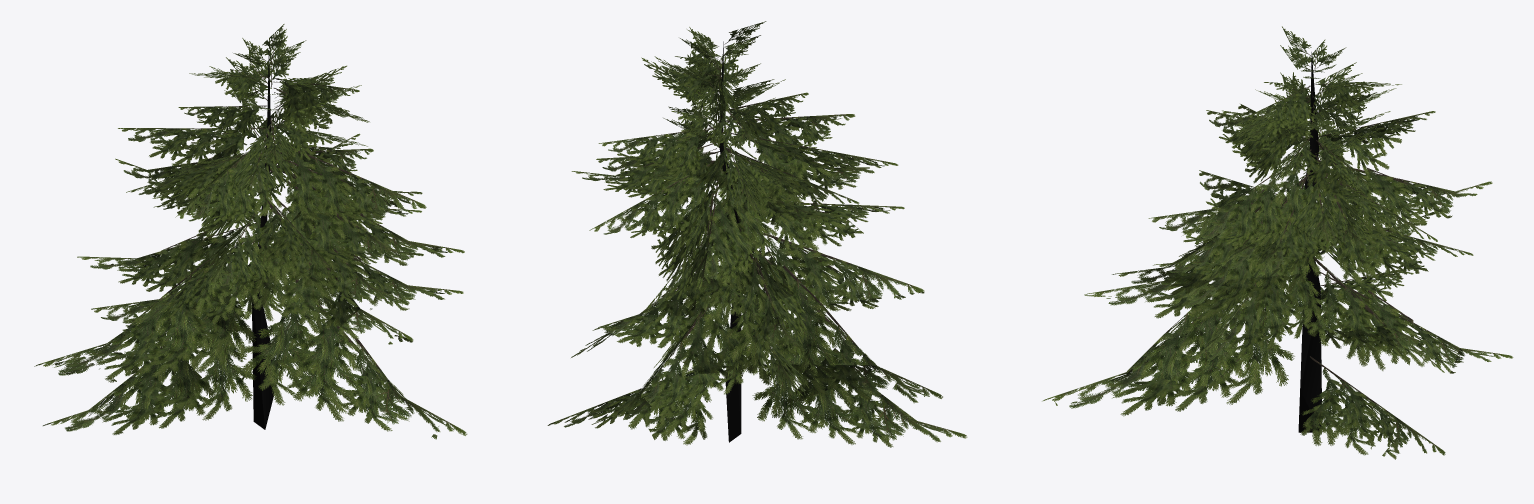
Rendered from spruce2 lod3.FBX.
3 renders of one model, left to right at view 1: azimuth 30°, elevation 25°; view 2: azimuth 150°, elevation 25°; view 3: azimuth 270°, elevation 25°, orthographic. The views are drawn at different scales.
Visible parts, largest first — view 1: spruce2_LOD3; view 2: spruce2_LOD3; view 3: spruce2_LOD3.
Boxes of the visible parts, x1,y1,x2,y2 form: spruce2_LOD3: (34,24,467,439); spruce2_LOD3: (547,21,967,447); spruce2_LOD3: (1042,26,1513,459).
Bounding box in the file's own units: 83955 × 82172 × 92284.
